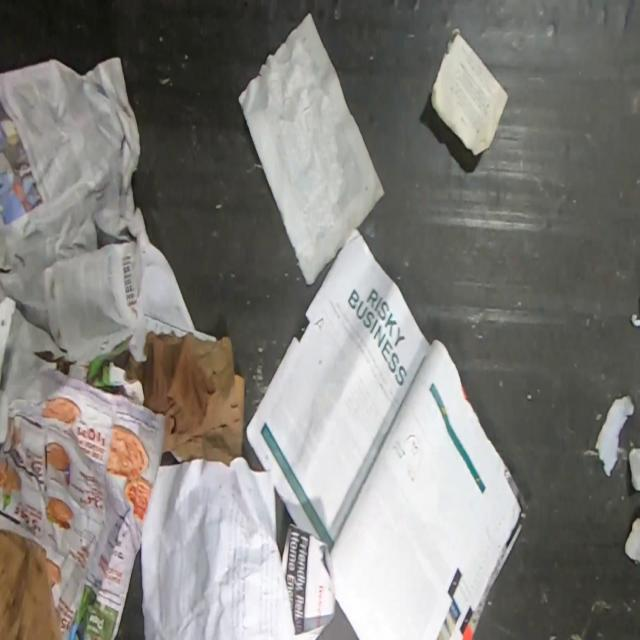cardboard: (127, 327, 246, 467), (0, 529, 62, 639)
